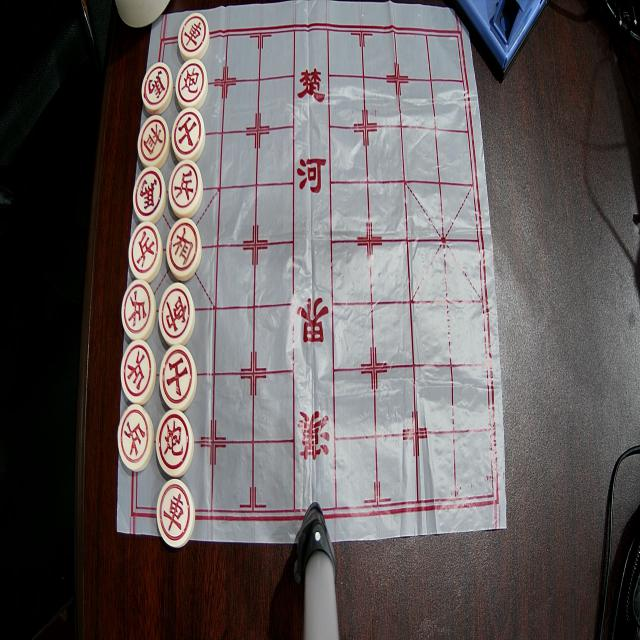red-cannon: (156, 410, 194, 478), (176, 58, 208, 106)
red-chariot: (157, 479, 196, 548), (178, 12, 210, 58)
red-elephant: (166, 218, 202, 280), (138, 115, 170, 166)
red-general: (158, 282, 196, 344)
red-guard: (160, 344, 197, 408), (172, 107, 206, 159)
red-horse: (134, 167, 166, 221), (142, 62, 173, 115)
red-soldier: (118, 404, 154, 472), (120, 341, 156, 404), (168, 160, 204, 218), (122, 280, 156, 340), (129, 222, 163, 280)
